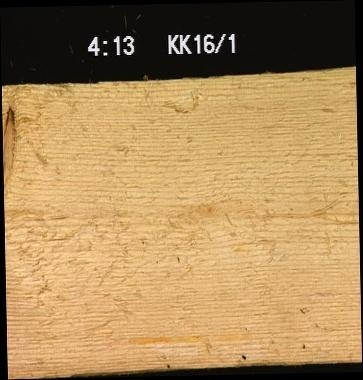split: (39, 236, 68, 241)
